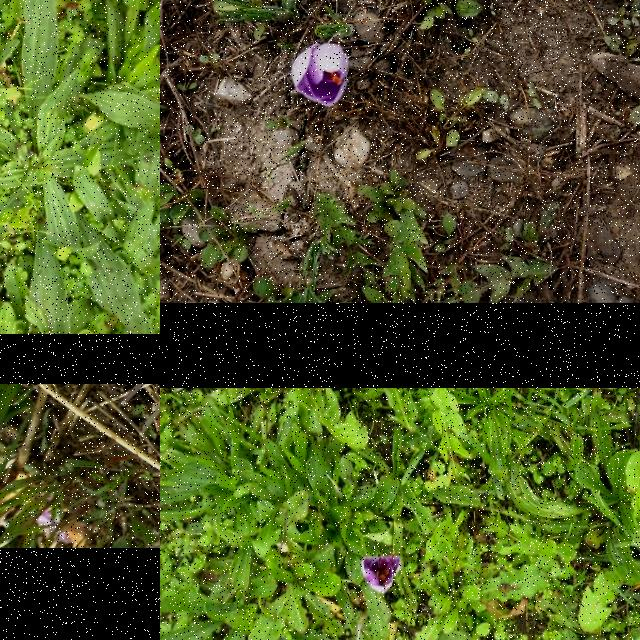flower: (292, 44, 351, 106), (362, 552, 402, 594)
